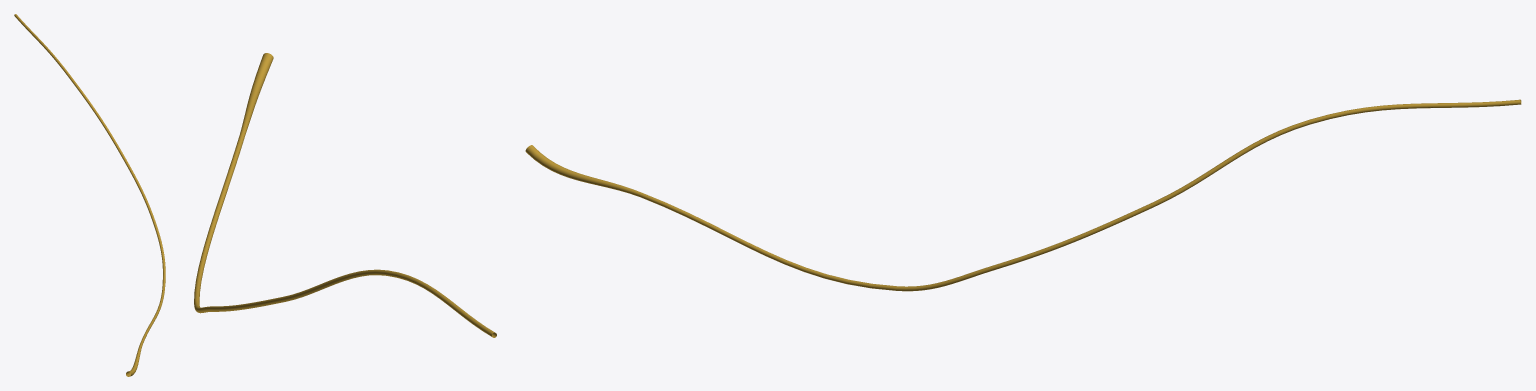
The picture shows the model from 3 angles, left to right: view 1: azimuth 30°, elevation 25°; view 2: azimuth 210°, elevation 25°; view 3: azimuth 270°, elevation 25°; orthographic projection. The views are drawn at different scales.
Visible parts, largest first — view 1: 左侧臂内侧皮神经; view 2: 左侧臂内侧皮神经; view 3: 左侧臂内侧皮神经.
Part boxes in pixels (left/top/right/bottom): 左侧臂内侧皮神经: left=14, top=14, right=165, bottom=376; 左侧臂内侧皮神经: left=194, top=53, right=496, bottom=337; 左侧臂内侧皮神经: left=525, top=99, right=1521, bottom=291.
Bounding box in the file's own units: 0.1053 × 0.074 × 0.2995.
